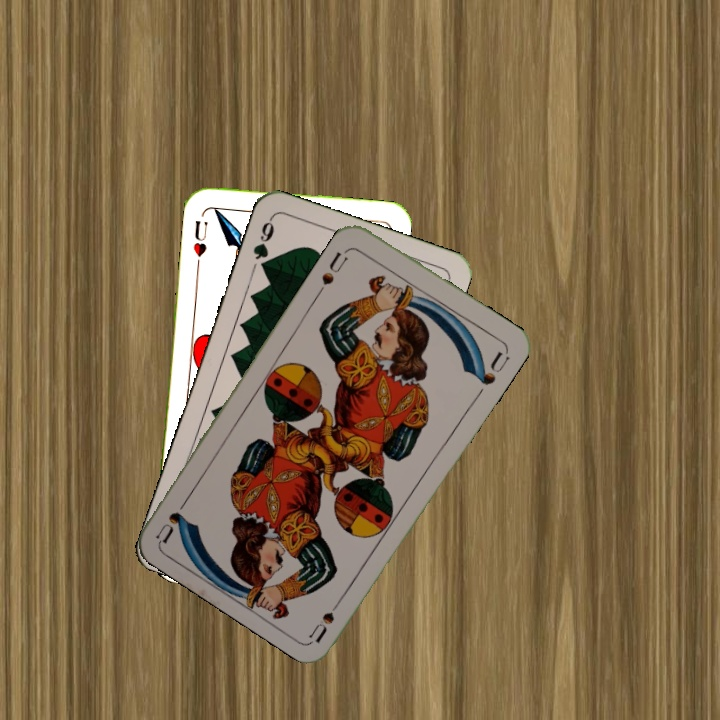G9: (249, 214, 277, 274)
HU: (189, 216, 211, 259)
SU: (306, 589, 349, 644), (317, 244, 353, 288)
